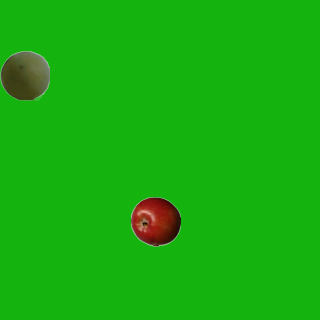Apple Braeburn: (130, 196, 180, 246)
Grape White 4: (0, 50, 49, 100)
